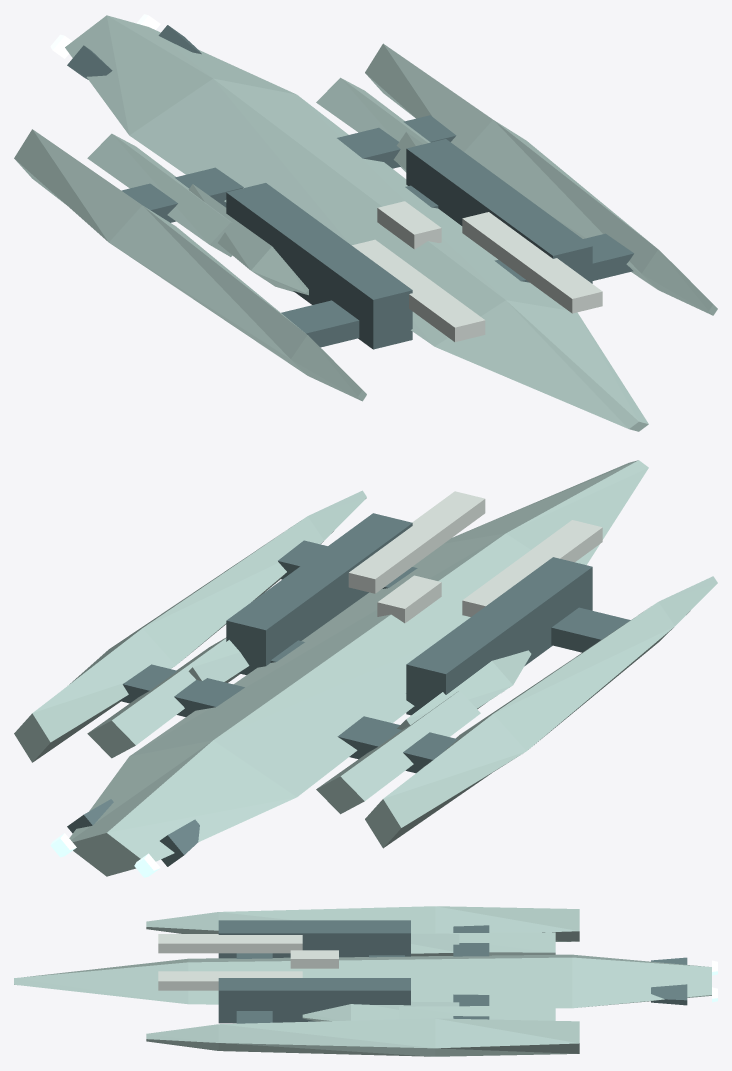
3 renders of one model, top to bottom at view 1: azimuth 30°, elevation 25°; view 2: azimuth 150°, elevation 25°; view 3: azimuth 270°, elevation 25°, orthographic. The views are drawn at different scales.
Bounding box in the file's own units: 5.21 × 0.9222 × 11.58.
